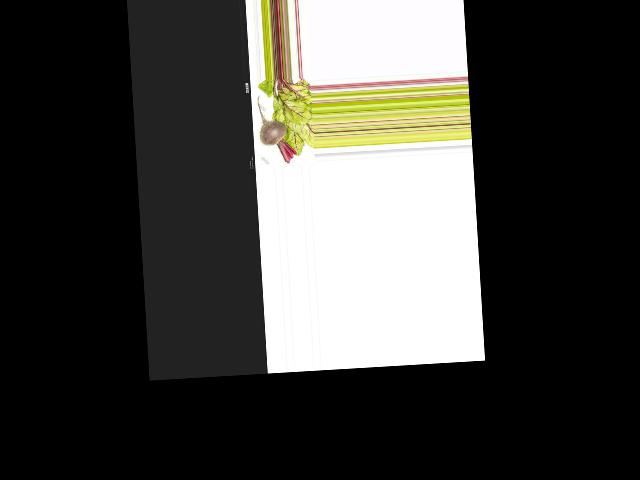beet: (256, 93, 297, 165)
